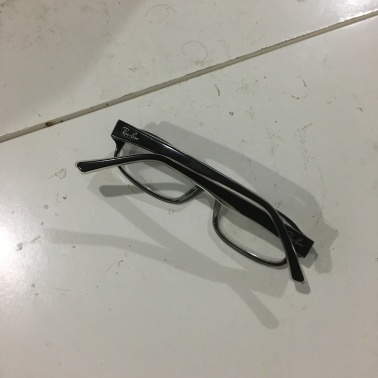glasses: (99, 120, 314, 280)
